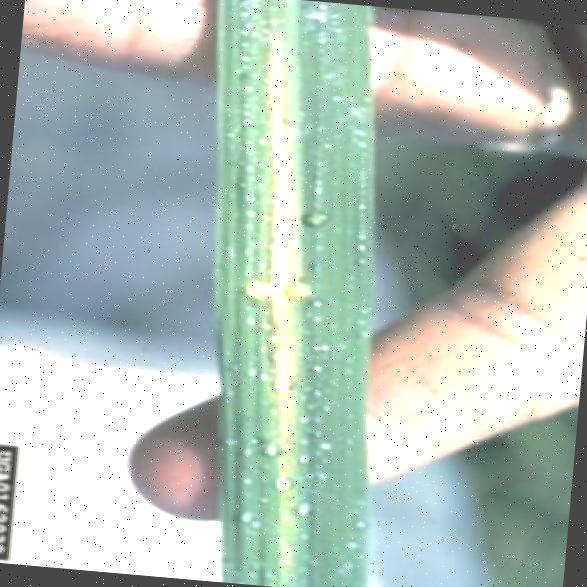Bacteria_Leaf_Blight: (210, 6, 354, 522)
